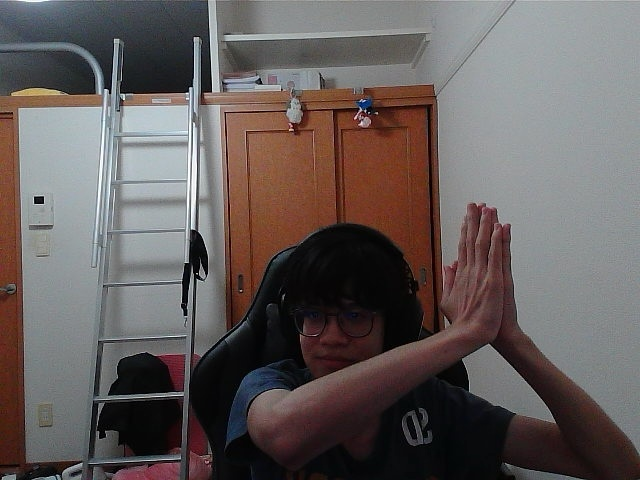pray: (447, 206, 501, 322)
